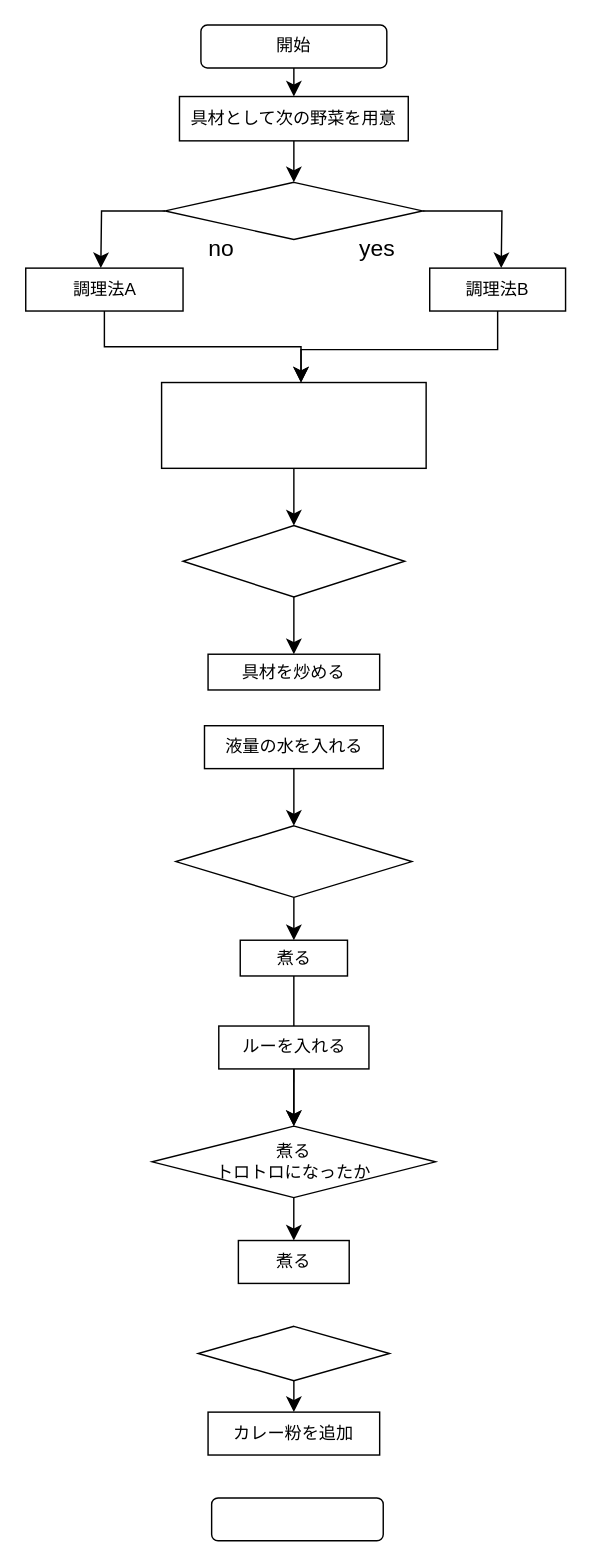
Some shapes in this 591 by 1566 pixel diagram are drawn without their labels. Here are the shapes that lost their labels. From the top down, the centre of each, then its label:
At (x=293, y=210): "人参が好きか嫌いか".
At (x=293, y=424): "ほうれん草、ピーマン、ナス、ブロッコリーを適当な大きさに切る".
At (x=293, y=560): "具材を炒める 色合いは適当か".
At (x=293, y=860): "煮る 煮詰まっているか".
At (x=293, y=1353): "辛いのが好きか".
At (x=296, y=1518): "完成".
